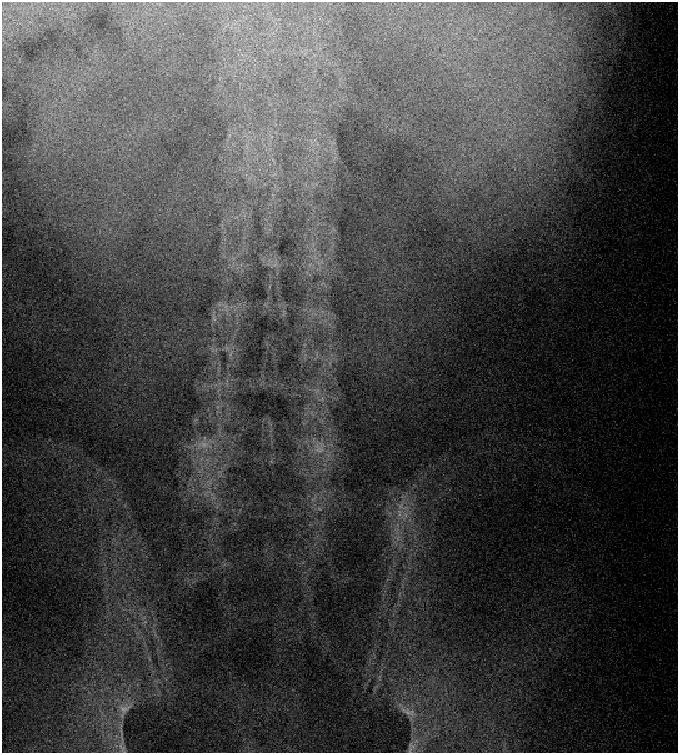lumbar scoliosis: (183, 144, 347, 548)
